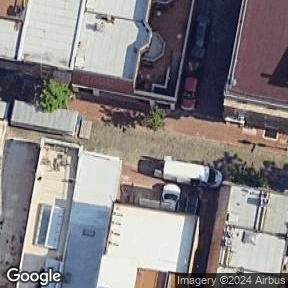vegetation: (33, 77, 74, 117), (223, 160, 266, 189), (143, 110, 164, 128)
